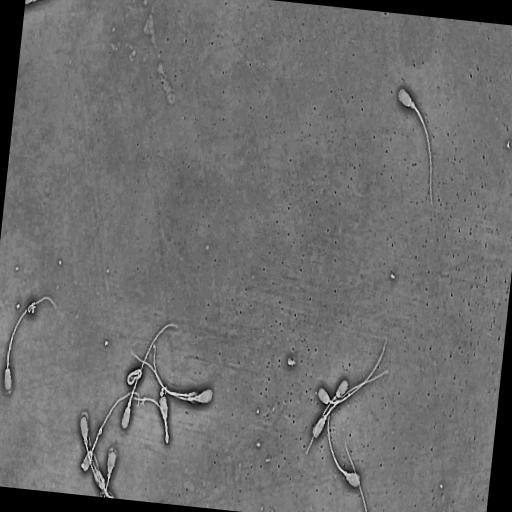dirt-particles: (27, 301, 36, 316)
distal-droplet: (98, 426, 102, 435)
folded-tail: (134, 397, 168, 444)
normal: (120, 322, 179, 431), (3, 295, 58, 394), (80, 390, 141, 474), (312, 372, 386, 439), (397, 85, 435, 208), (318, 344, 386, 405), (135, 355, 213, 403), (79, 414, 117, 498), (328, 405, 360, 488), (154, 346, 200, 403), (132, 392, 170, 445), (123, 363, 144, 389)
proximal-droplet: (410, 101, 415, 110), (84, 438, 88, 445), (127, 401, 131, 407), (324, 415, 327, 420), (344, 472, 347, 476), (330, 401, 333, 404)
